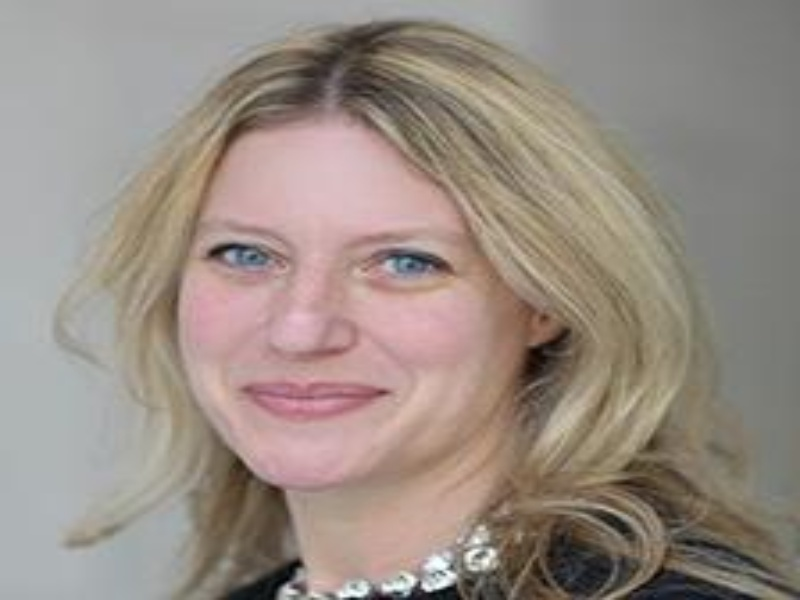face: (196, 178, 480, 446)
